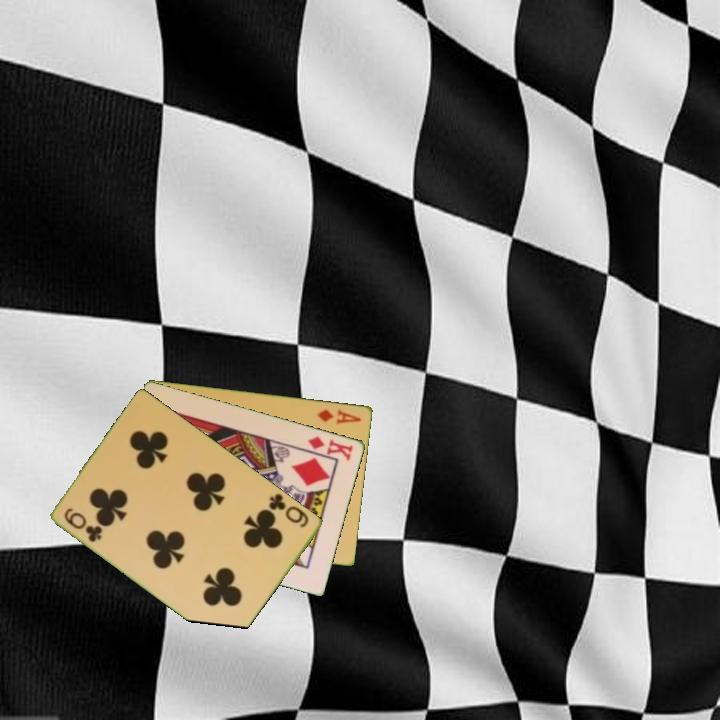6c: (266, 490, 312, 531), (61, 504, 106, 545)
Ad: (314, 406, 364, 427)
Kd: (304, 432, 356, 463)
